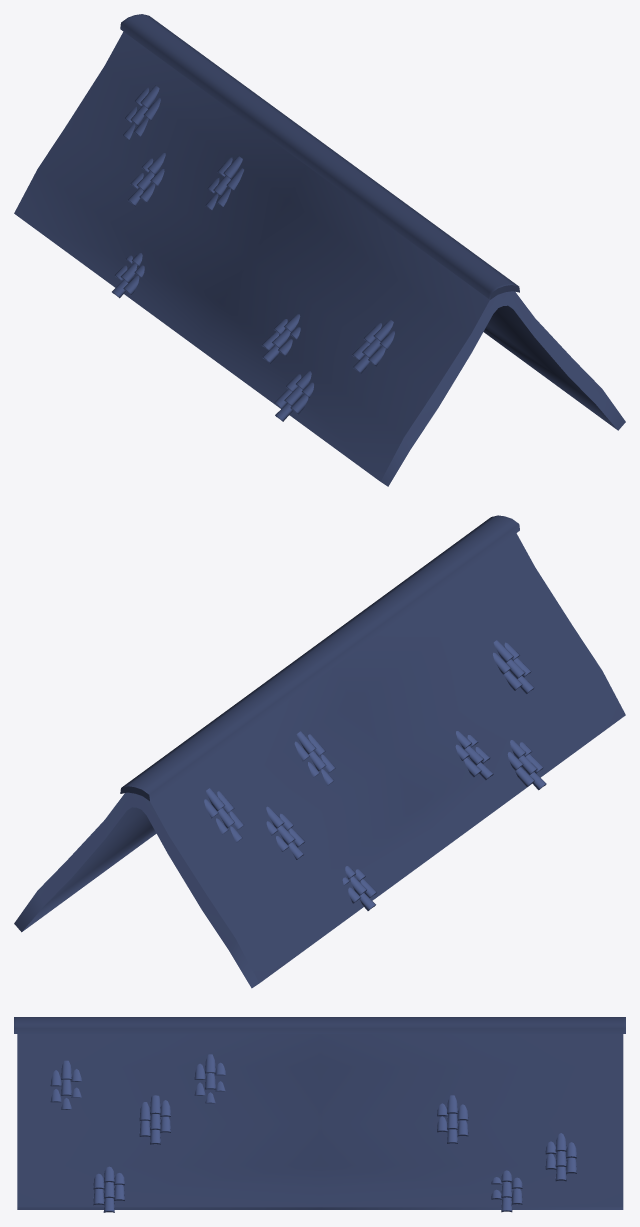
File: BlueRoofing2.fbx
3 views of the same model, one above another, from view 1: azimuth 30°, elevation 25°; view 2: azimuth 150°, elevation 25°; view 3: azimuth 270°, elevation 25° (orthographic). The views are drawn at different scales.
Visible parts, largest first — view 1: Cube.082, Cube.081, Cube.079, Cube.084; view 2: Cube.082, Cube.081, Cube.079, Cube.084; view 3: Cube.082, Cube.081, Cube.084, Cube.079.
Part boxes in pixels (bbox=[...]): Cube.082: bbox=[14, 31, 625, 486]; Cube.081: bbox=[120, 14, 519, 299]; Cube.079: bbox=[112, 85, 243, 298]; Cube.084: bbox=[262, 314, 394, 421]; Cube.082: bbox=[14, 533, 625, 988]; Cube.081: bbox=[120, 515, 519, 800]; Cube.079: bbox=[204, 731, 376, 910]; Cube.084: bbox=[455, 640, 546, 790]; Cube.082: bbox=[17, 1034, 623, 1209]; Cube.081: bbox=[14, 1017, 625, 1033]; Cube.084: bbox=[50, 1054, 225, 1212]; Cube.079: bbox=[437, 1095, 576, 1212].
Bounding box in the file's own units: 959 × 2298 × 598.
